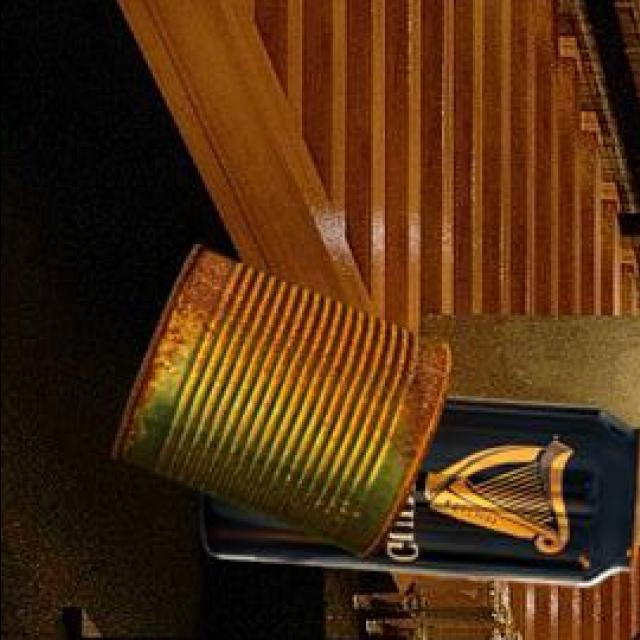logam: (110, 241, 449, 556), (196, 392, 639, 582)
